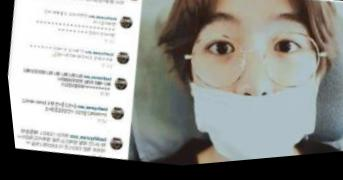WRONG: (168, 1, 337, 168)
